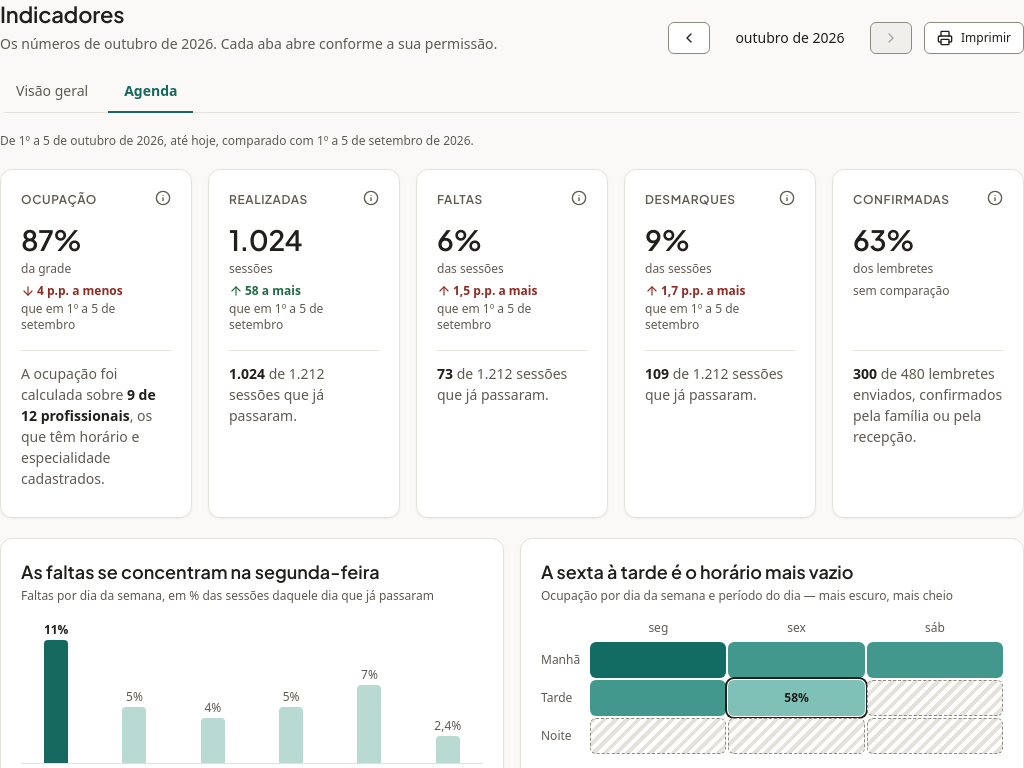
Test: Aba Agenda — o padrão das abas de detalhe › deve listar no "i" das faltas os status que contam, pelo nome do cadastro
Step 1. Click the button named "Como se calcula: Faltas" → (579, 198), box [567, 186, 591, 210]
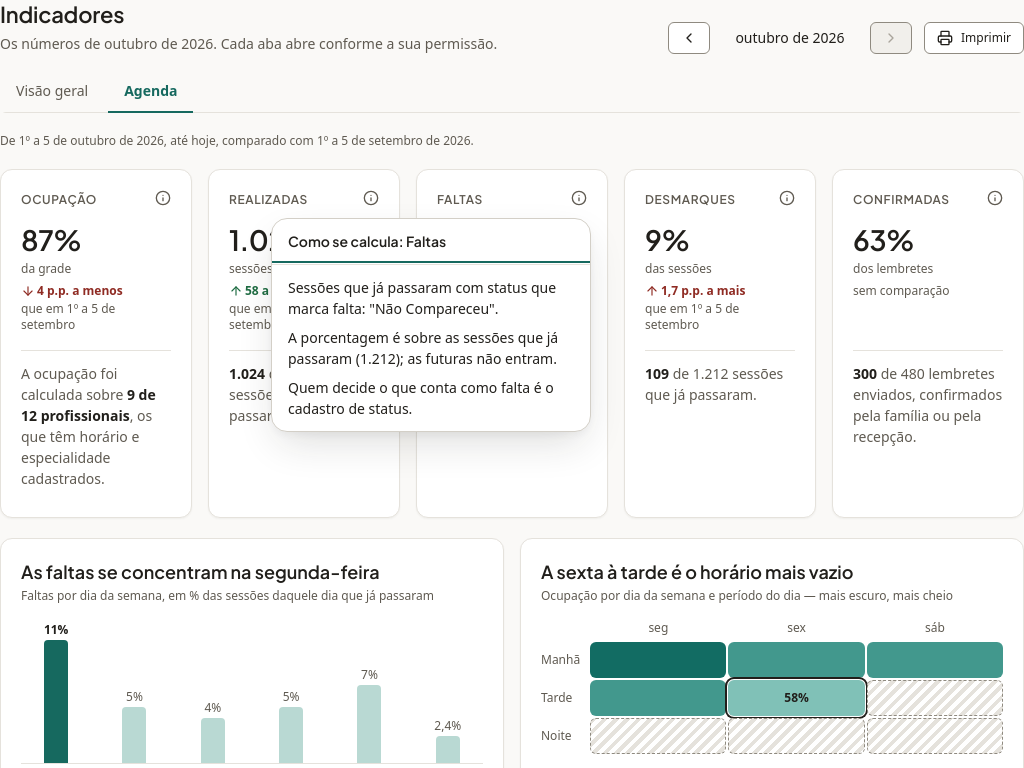
Result: the dialog "Como se calcula: Faltas" shows "Sessões que já passaram com status que marca falta: \"Não Compareceu\"." at [288, 278, 556, 318]
Result: the dialog "Como se calcula: Faltas" shows "(1.212)" at [288, 328, 558, 368]
